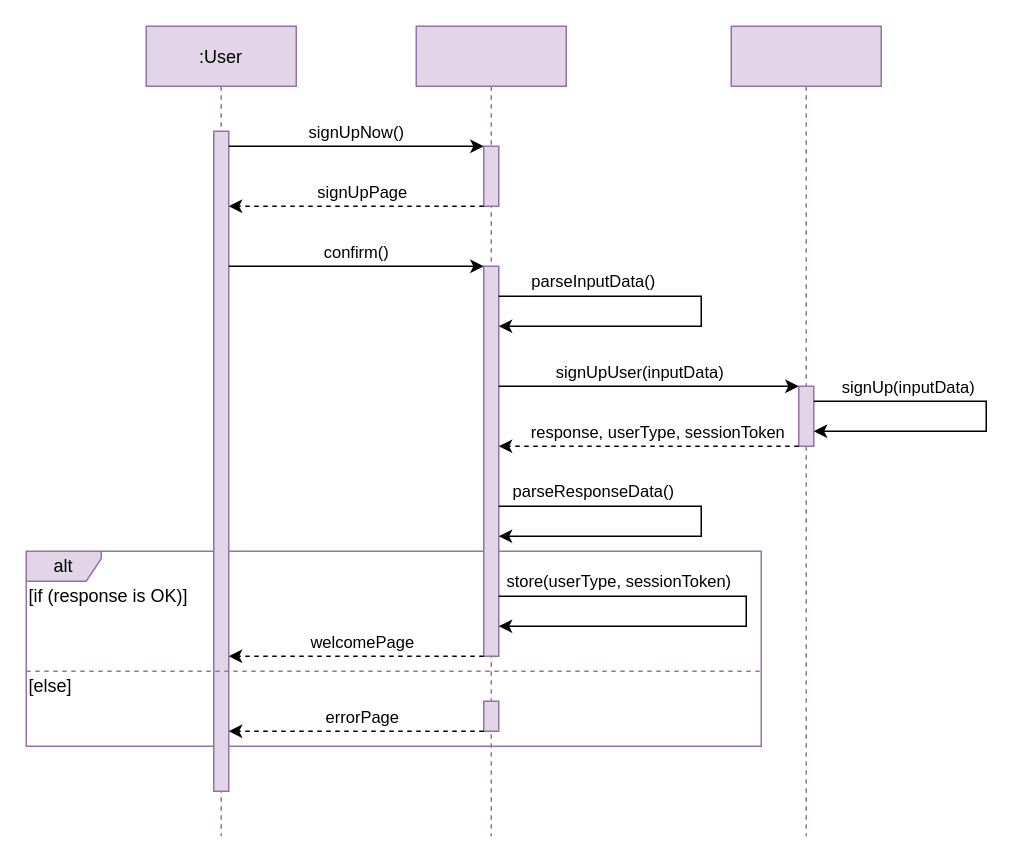
Image size: 1025x863. Some labels were removed from this diagram. The centre of each missing label's shape, as x and y in pixels:
":CLup App" goes at point 490,430.
":CLup Server-Database" goes at point 805,430.
